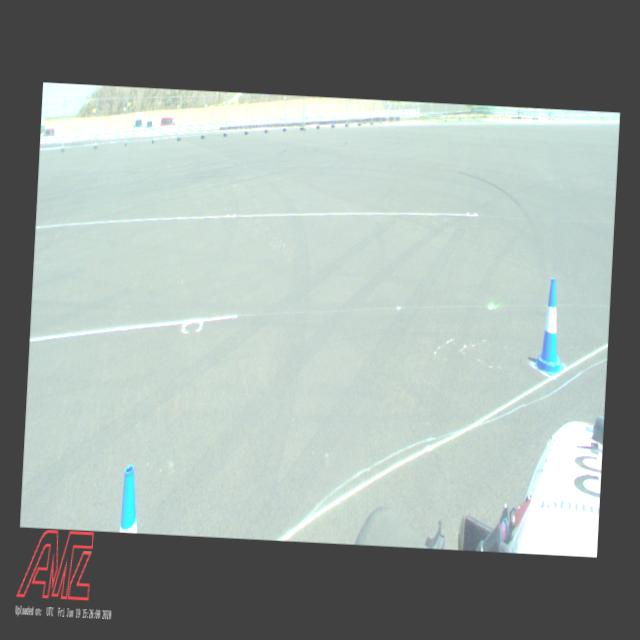blue_cone: (534, 278, 568, 377), (120, 464, 141, 534)
